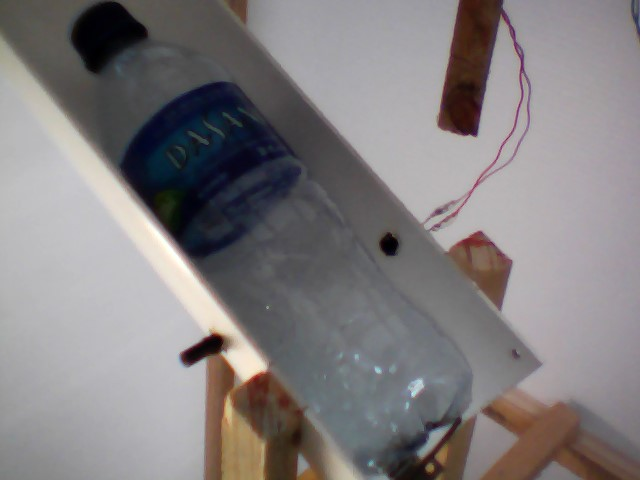plastico: (71, 1, 475, 480)
